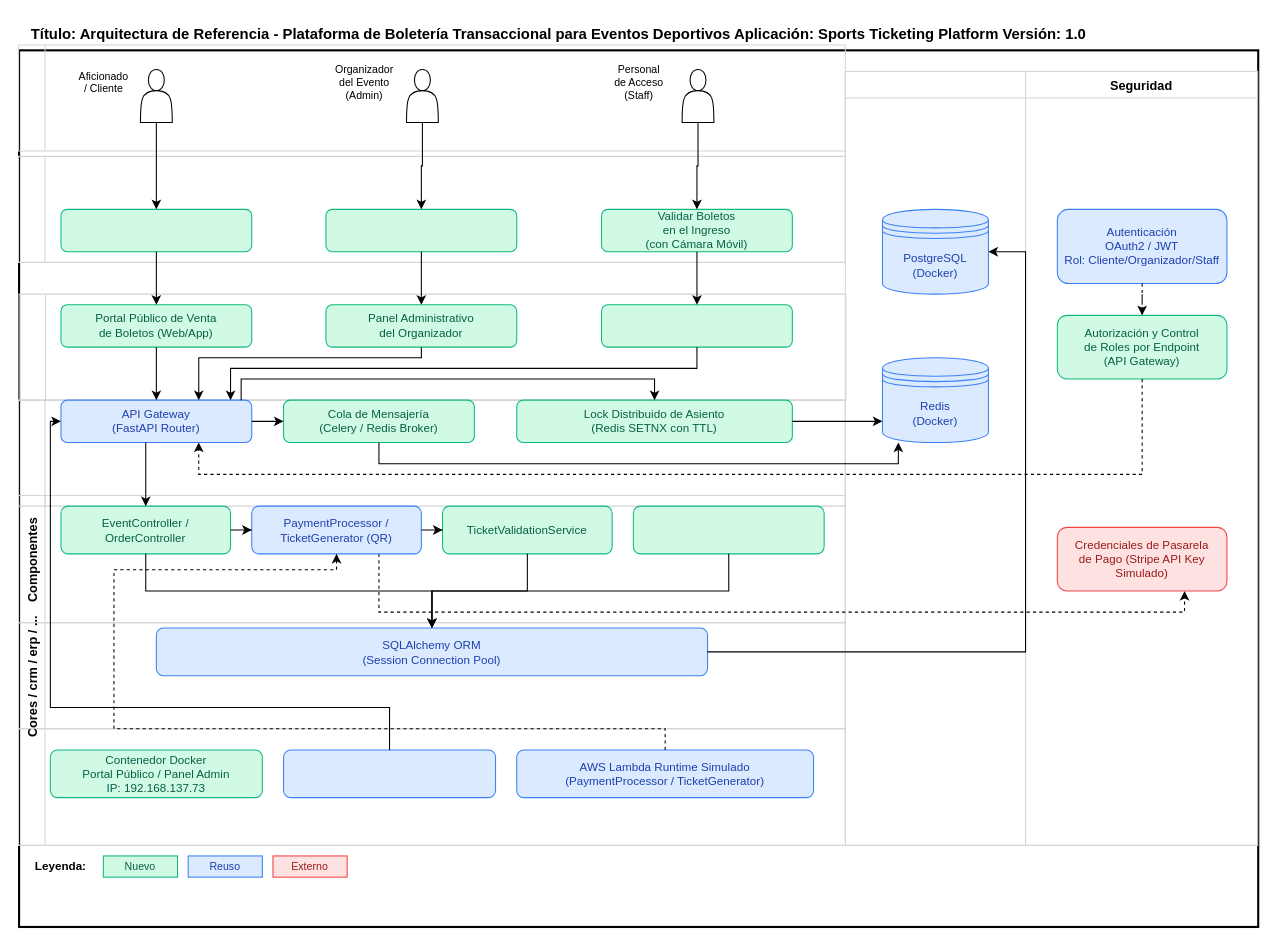
Some shapes in this 1277 by 946 pixel diagram are drawn without their labels. The shapes that lost their labels are listed below. From the top down, each one's box as (x1, y1, x2, y2) in pixels, then its label:
(17, 44, 845, 151): Usuarios
(17, 155, 845, 262): Procesos / Actividades
(60, 208, 252, 252): Explorar Eventos y Comprar Boletos
(325, 208, 517, 252): Crear Eventos, Definir Precios e Inventario (Visibilidad e Historial)
(600, 304, 792, 347): App de Validación de Boletos (QR Scanner)
(18, 293, 846, 400): Apps / Interfaces
(17, 399, 845, 506): Integración
(844, 70, 1026, 845): Datos / Almacenamiento
(632, 505, 824, 554): AdminEventController / CustomerHistoryService
(282, 749, 496, 798): Uvicorn Web Server (ASGI Python 3.10 Runtime)
(17, 728, 845, 845): Infraestructura
